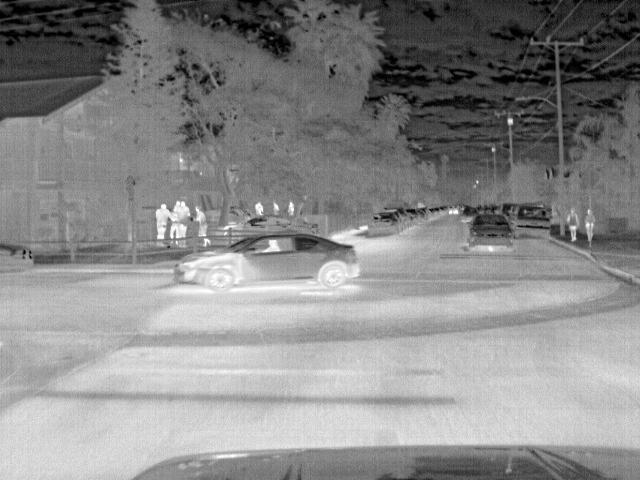car: (176, 230, 365, 292), (222, 213, 326, 237), (463, 212, 514, 248), (507, 205, 552, 239), (1, 243, 35, 274), (367, 211, 403, 237), (457, 206, 483, 223), (393, 209, 411, 228), (404, 208, 419, 226), (415, 208, 429, 222)
person: (578, 204, 597, 245), (155, 201, 174, 241), (563, 206, 581, 243), (189, 206, 208, 232), (261, 239, 283, 252), (285, 198, 299, 216), (253, 200, 267, 216), (270, 198, 283, 214)
